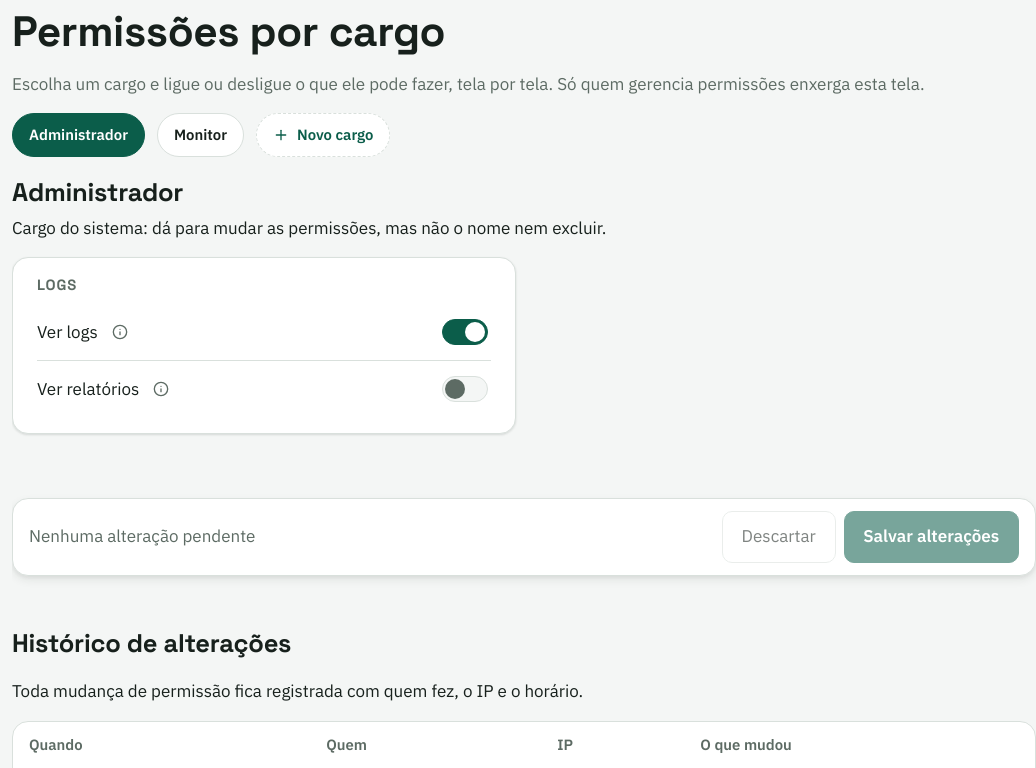
Test: PermissionsPage - edição e salvamento › salva só os cargos alterados, avisa e recarrega do servidor
Expected: the tab "Administrador" is shown, x1=12 y1=113 x2=145 y2=157
Click the checkbox labelled "Ver relatórios": (465, 389) x1=442 y1=376 x2=488 y2=402
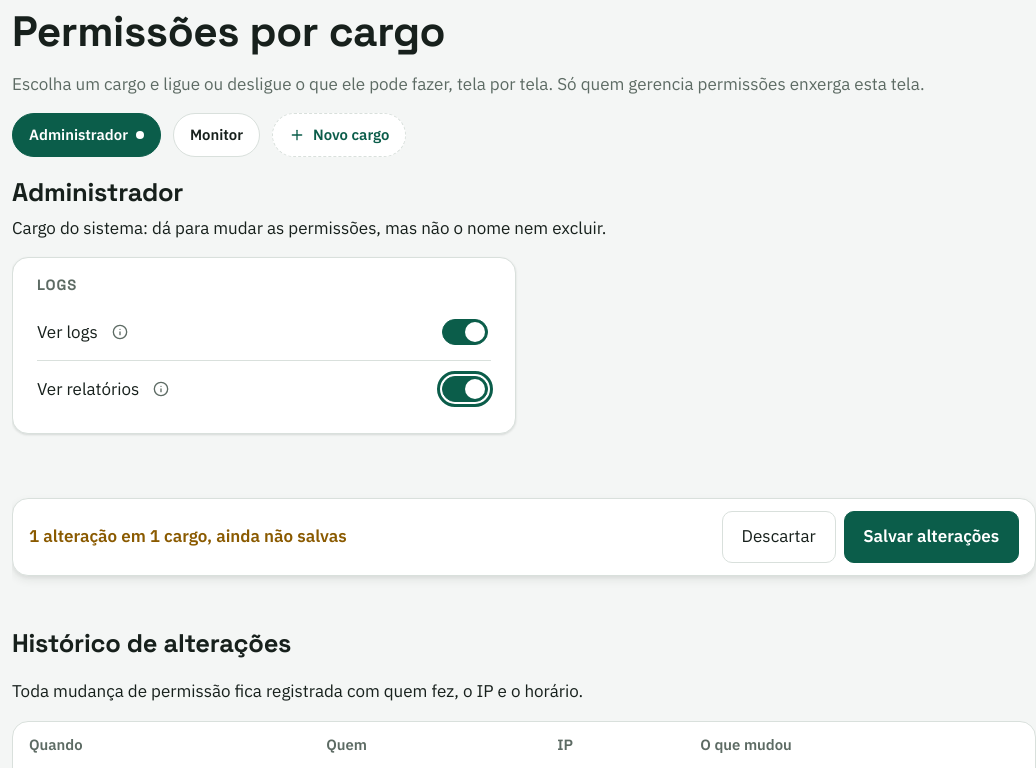
Click the button "Salvar alterações": (931, 537) x1=844 y1=511 x2=1019 y2=563
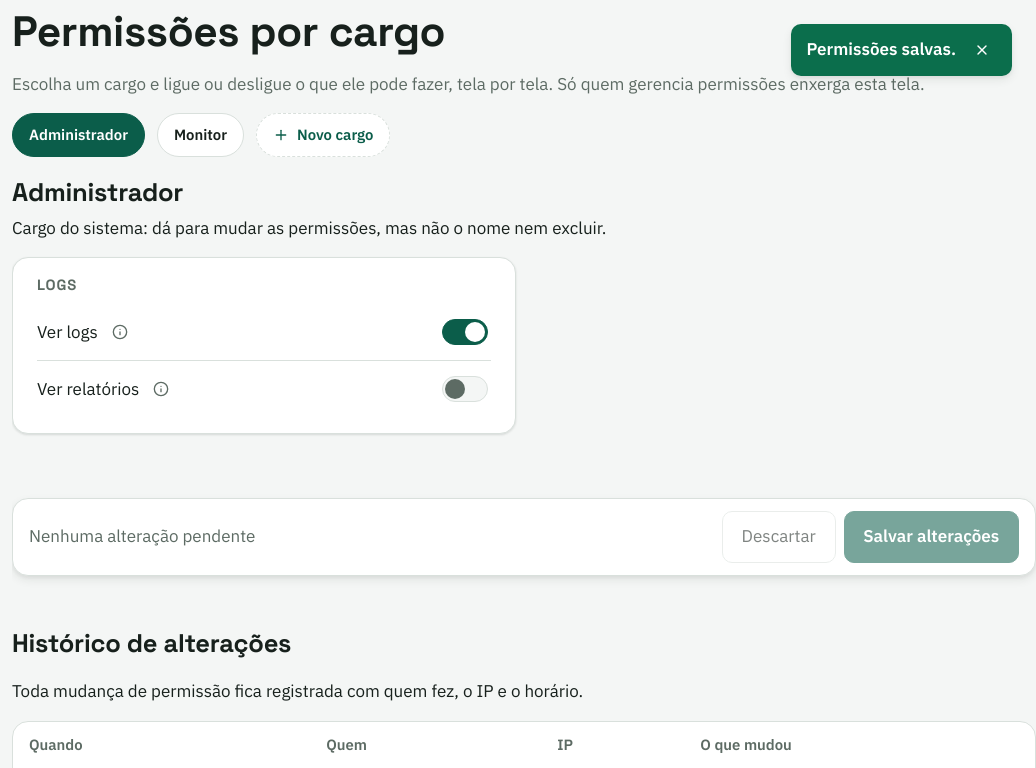
Expected: the text "Permissões salvas." is shown, x1=806 y1=37 x2=956 y2=63
